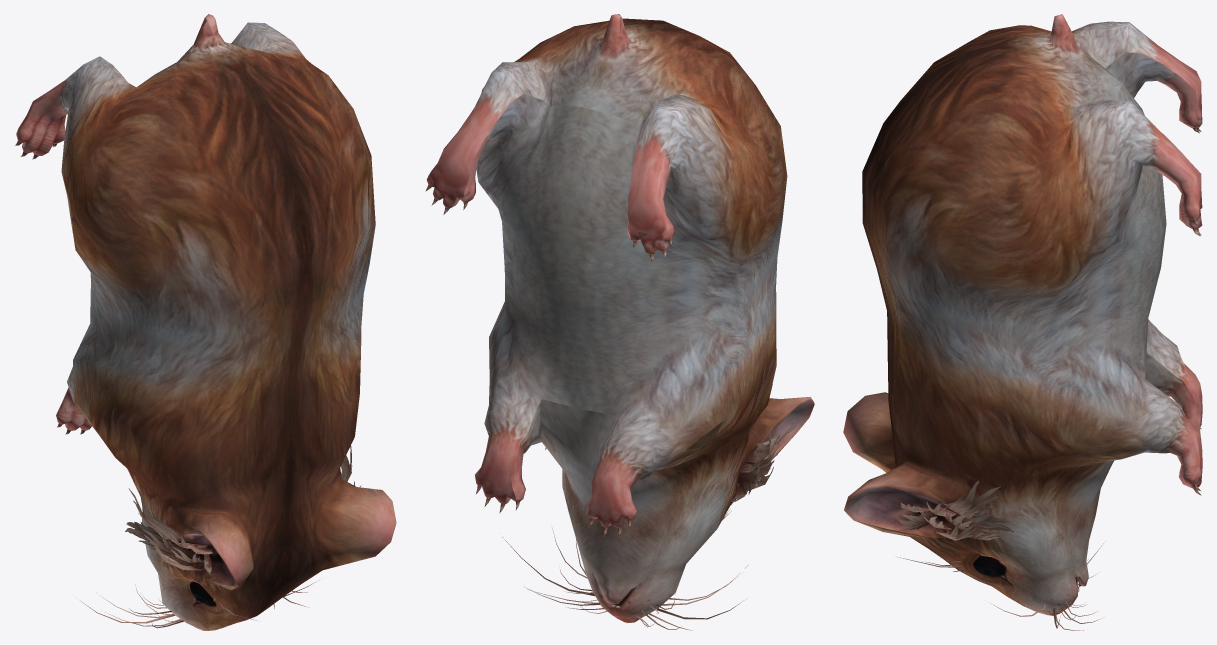
Rendered from hamster.FBX.
The picture shows the model from 3 angles, left to right: view 1: azimuth 30°, elevation 25°; view 2: azimuth 150°, elevation 25°; view 3: azimuth 270°, elevation 25°; orthographic projection.
Parts seen in each view (by area): view 1: Object001; view 2: Object001; view 3: Object001.
Part boxes in pixels (x1,y1,x2,y2): Object001: [15, 14, 396, 630]; Object001: [425, 14, 814, 630]; Object001: [843, 14, 1202, 630].
Bounding box in the file's own units: 5.21 × 10.87 × 5.86.
